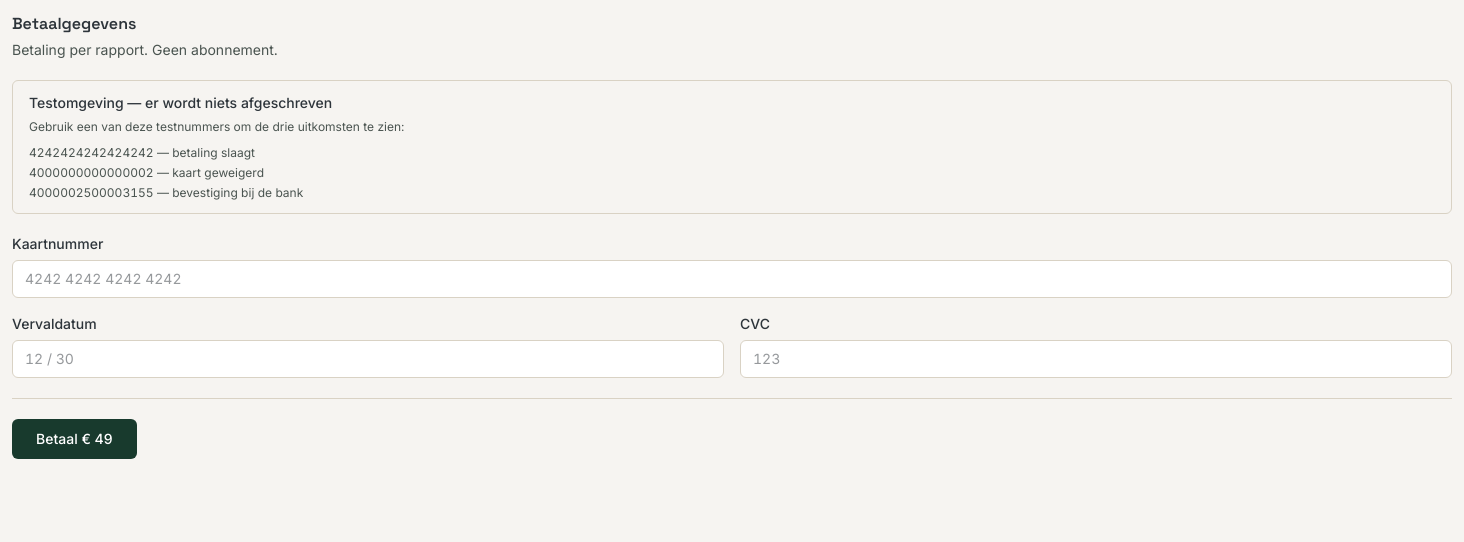
Test case: PaymentForm - a card number that is neither › is refused without the intent leaving the payable state
Type "1111222233334444" into the field labelled "Kaartnummer" at coordinates (732, 278), box [12, 260, 1452, 298]
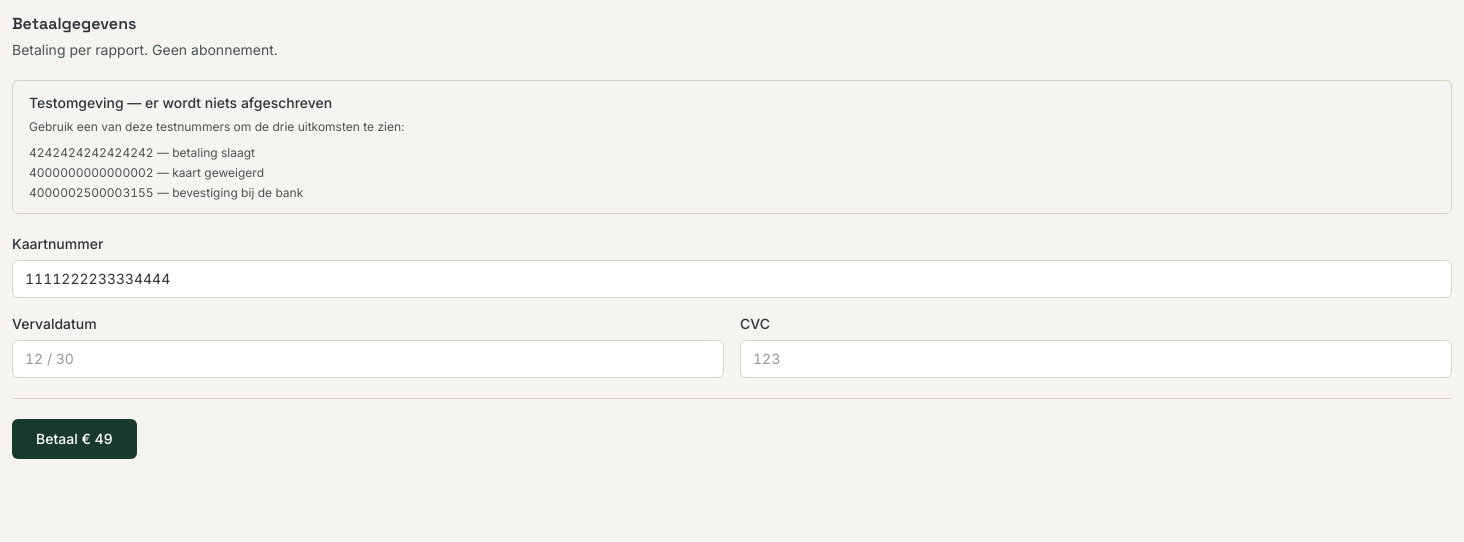
Click the button "Betaal € 49" at coordinates (74, 438), box [12, 418, 137, 458]
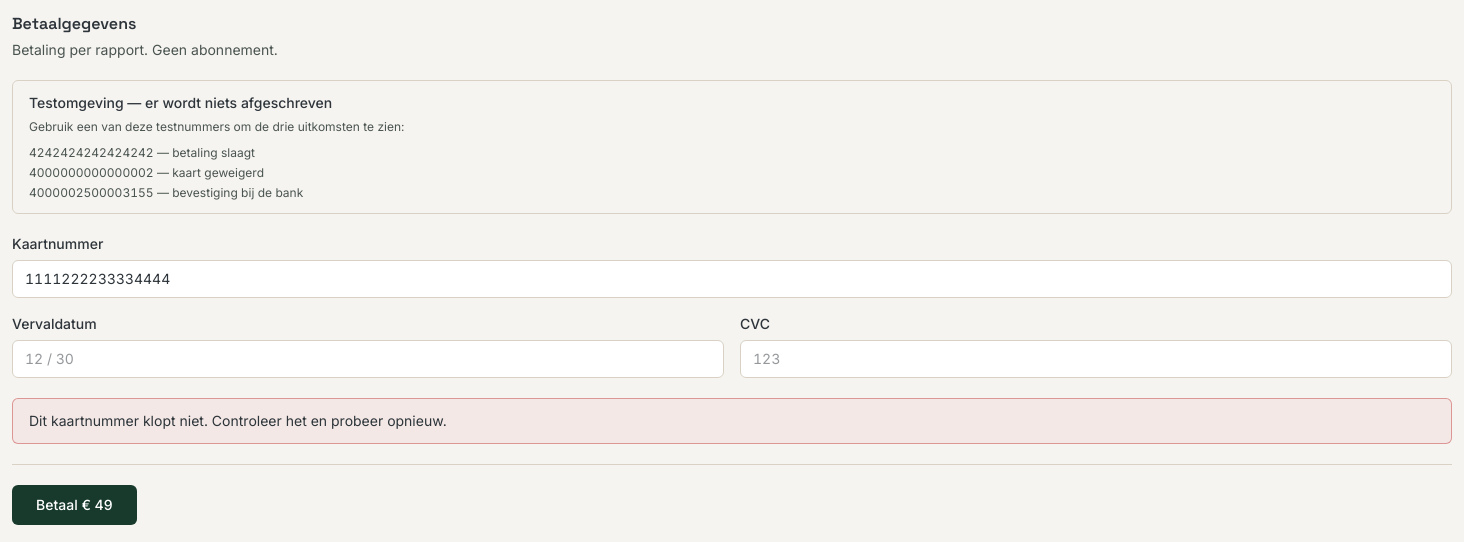
expect the message "Dit kaartnummer klopt niet. Controleer het en probeer opnieuw." is shown: met, box [12, 398, 1452, 444]
expect the message shows "kaartnummer klopt niet": met, box [29, 412, 447, 428]
